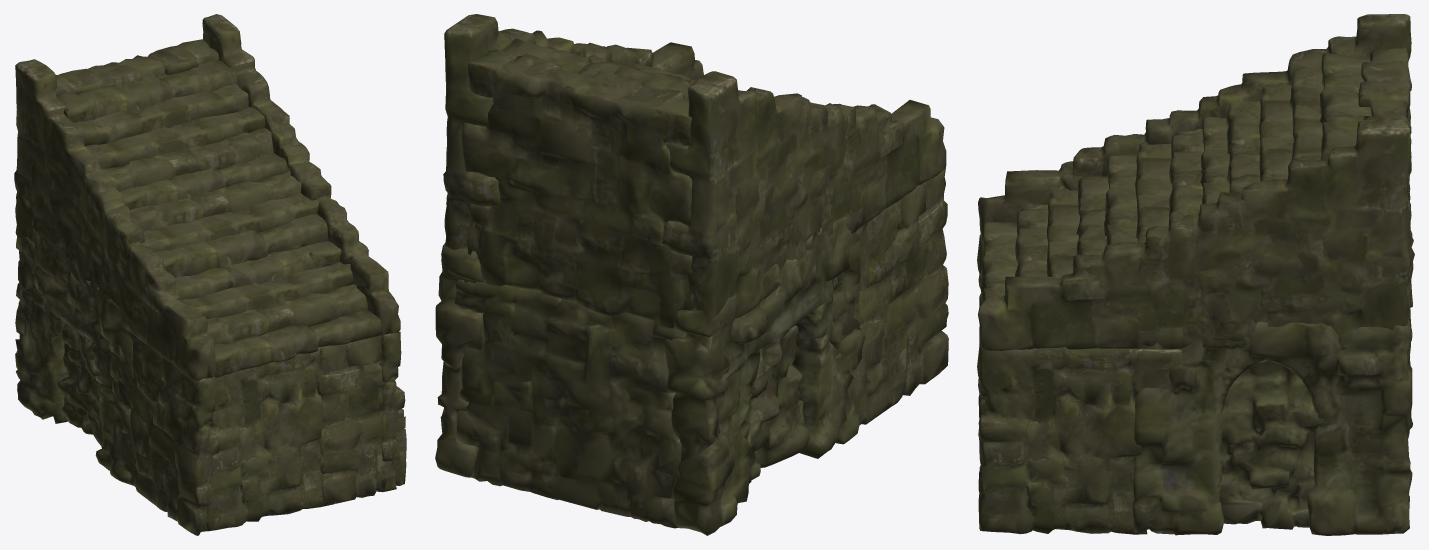
The model's file is Ruins_ClosedStairArch-transformed.glb.
The picture shows the model from 3 angles, left to right: view 1: azimuth 30°, elevation 25°; view 2: azimuth 150°, elevation 25°; view 3: azimuth 270°, elevation 25°; orthographic projection. The views are drawn at different scales.
Visible parts, largest first — view 1: Ruins_ClosedStairArch; view 2: Ruins_ClosedStairArch; view 3: Ruins_ClosedStairArch.
Boxes of the visible parts, left/top/right/bottom form: Ruins_ClosedStairArch: left=14, top=14, right=406, bottom=535; Ruins_ClosedStairArch: left=435, top=14, right=948, bottom=535; Ruins_ClosedStairArch: left=977, top=14, right=1414, bottom=535.
Bounding box in the file's own units: 5.04 × 7.52 × 7.33.
3 materials, 3 textured.
